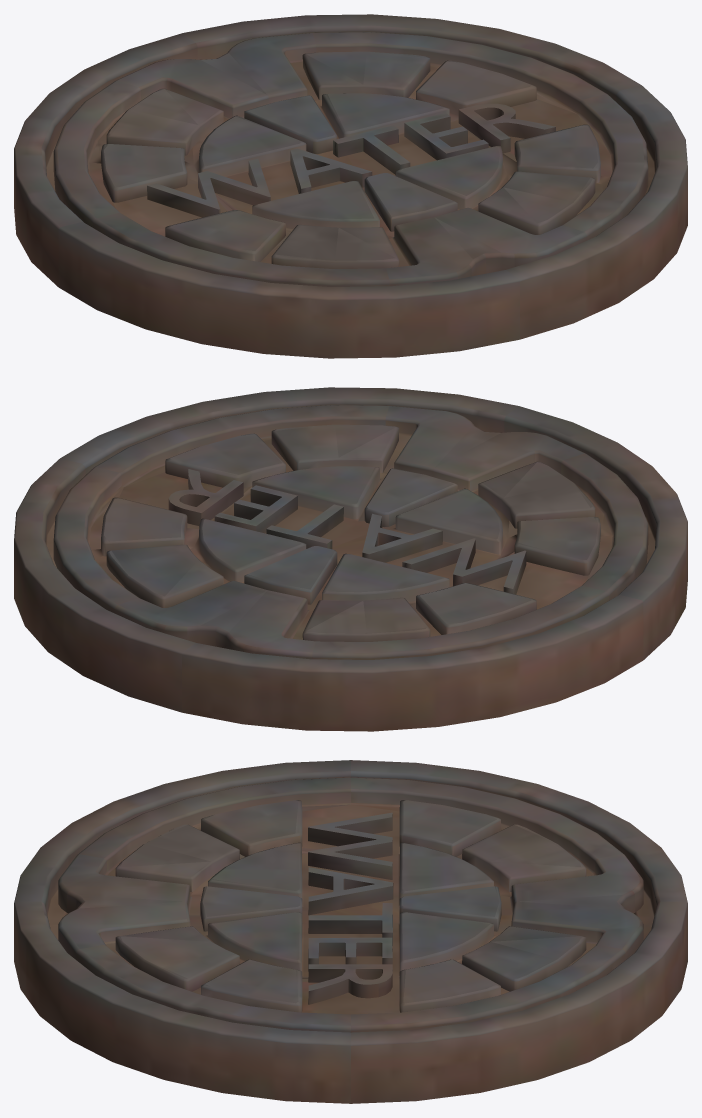
File: water_manhole_cover.glb
The picture shows the model from 3 angles, top to bottom: view 1: azimuth 30°, elevation 25°; view 2: azimuth 150°, elevation 25°; view 3: azimuth 270°, elevation 25°; orthographic projection.
Parts seen in each view (by area): view 1: water_manhole_cover; view 2: water_manhole_cover; view 3: water_manhole_cover.
Boxes of the visible parts, bbox=[...] form: water_manhole_cover: bbox=[14, 14, 687, 358]; water_manhole_cover: bbox=[14, 387, 687, 731]; water_manhole_cover: bbox=[14, 760, 687, 1103].
Bounding box in the file's own units: 0.6908 × 0.0676 × 0.6908.
Materials: 1 (1 with a texture image).
